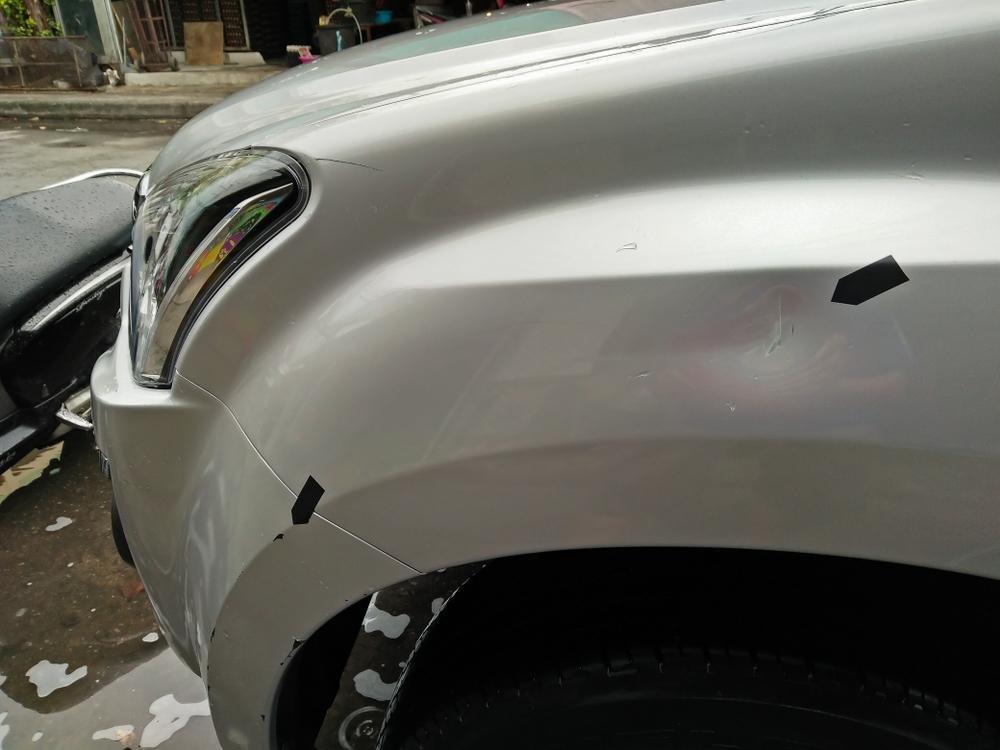dent: (684, 277, 869, 382)
scratch: (318, 157, 387, 173), (204, 625, 217, 704), (278, 633, 308, 667)
